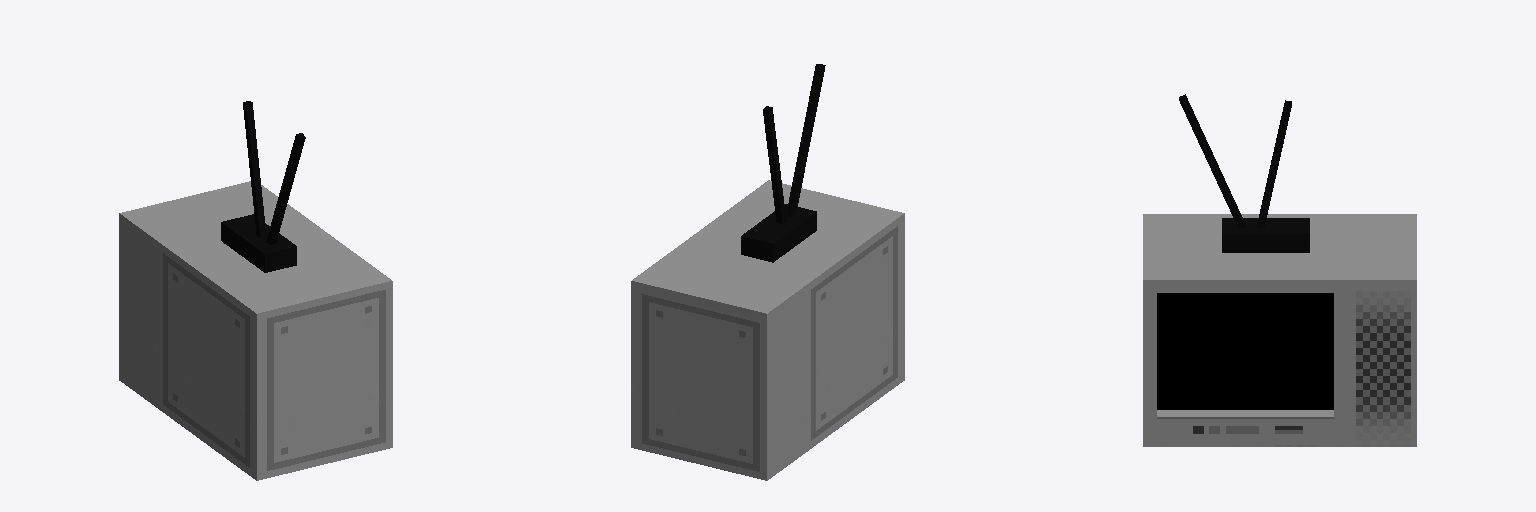
3 views of the same model, side by side, from view 1: azimuth 30°, elevation 25°; view 2: azimuth 150°, elevation 25°; view 3: azimuth 270°, elevation 25° (orthographic).
Visible parts, largest first — view 1: portable_tv; view 2: portable_tv; view 3: portable_tv.
Boxes of the visible parts, x1=… form: portable_tv: x1=119, y1=101, x2=392, y2=480; portable_tv: x1=631, y1=64, x2=904, y2=480; portable_tv: x1=1143, y1=94, x2=1416, y2=446.
Bounding box in the file's own units: 1.7 × 3.78 × 2.98.
3 materials, 1 textured.